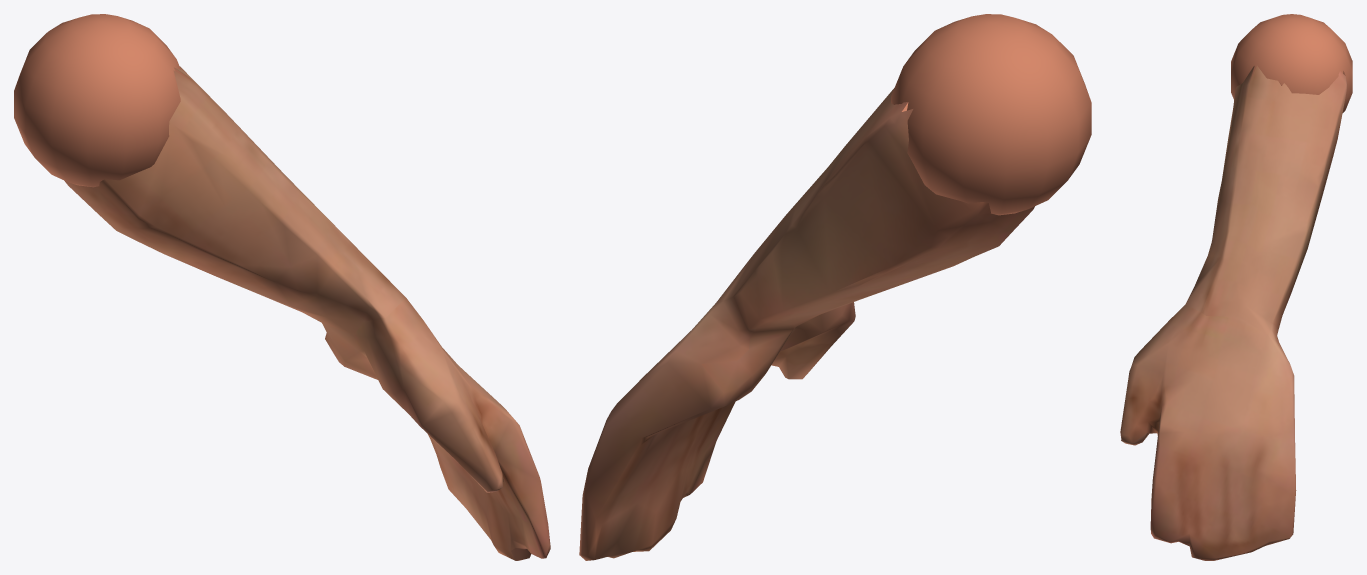
The model's file is hombre_antebrazo_izq.obj.
The picture shows the model from 3 angles, left to right: view 1: azimuth 30°, elevation 25°; view 2: azimuth 150°, elevation 25°; view 3: azimuth 270°, elevation 25°; orthographic projection. The views are drawn at different scales.
Visible parts, largest first — view 1: hombre_antebrazo_izq; view 2: hombre_antebrazo_izq; view 3: hombre_antebrazo_izq.
Part boxes in pixels (<box>): hombre_antebrazo_izq: <box>14,14,550,560</box>; hombre_antebrazo_izq: <box>579,14,1091,560</box>; hombre_antebrazo_izq: <box>1120,14,1352,560</box>.
Size of the model in its own units: 0.3001 by 0.3765 by 0.1909.
